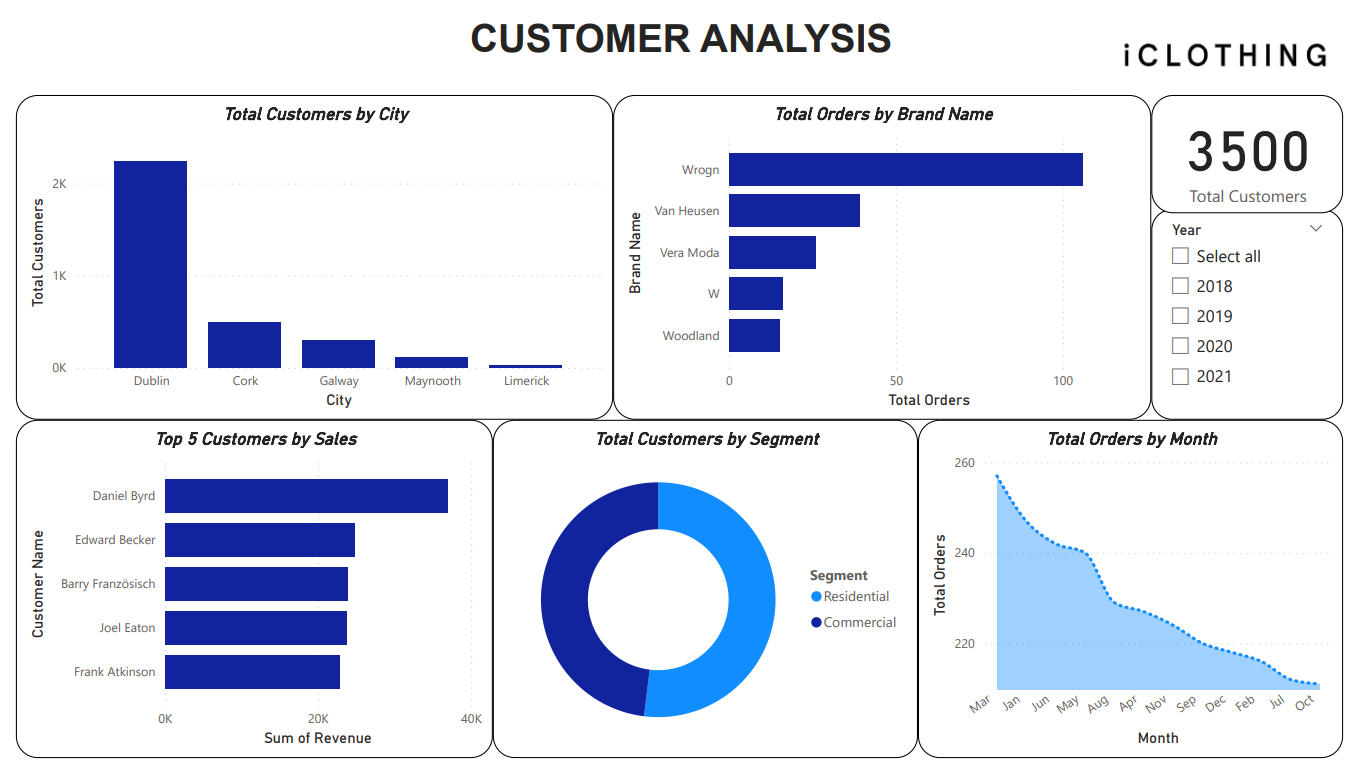

Layout of this report page (visuals, bound fields, positions):
{"tool":"powerbi","page":{"name":"Customer Analysis","canvas":[1280,720],"ordinal":4},"visuals":[{"type":"stackedAreaChart","fields":{"Category":["iclothing calender.Month"],"Y":["iclothing customers.Customer ID"]},"box":[870,393.8,410.3,326.6],"z":0},{"type":"clusteredBarChart","title":"Top 5 Customers by Sales","fields":{"Category":["iclothing customers.Customer Name"],"Y":["iclothing sales.Revenue"]},"box":[0,393.8,459.7,326.6],"z":1000},{"type":"clusteredBarChart","fields":{"Category":["iclothing products.Brand Name"],"Y":["iclothing sales.Customer ID"]},"box":[576.2,81.2,518.8,312.5],"z":2000},{"type":"donutChart","fields":{"Y":["iclothing sales.Customer ID"],"Category":["iclothing customers.Segment"]},"box":[459.7,393.8,410.3,326.6],"z":3000},{"type":"textbox","box":[9.6,1.4,1015.4,79.6],"z":4000},{"type":"image","box":[1042.9,0,237.4,81],"z":5000},{"type":"slicer","fields":{"Values":["iclothing calender.Year"]},"box":[1095,190.7,185.2,203.1],"z":6000},{"type":"lineStackedColumnComboChart","fields":{"Category":["iclothing customers.City"],"Y":["iclothing sales.Customer ID"]},"box":[0,81.2,576.2,312.5],"z":7000},{"type":"card","fields":{"Values":["iclothing sales.Customer ID"]},"box":[1095,81,185.2,113.9],"z":8000}]}

Visuals, with their boxes in screenshot pixels (x1, y1, x2, y2), scaled from the page's 1280x720 canvas onto the 1361x767 screenshot:
stackedAreaChart - iclothing calender.Month x iclothing customers.Customer ID: 925:420:1360:766
"Top 5 Customers by Sales" clusteredBarChart: 0:420:489:766
clusteredBarChart - iclothing products.Brand Name x iclothing sales.Customer ID: 613:87:1164:419
donutChart - iclothing sales.Customer ID x iclothing customers.Segment: 489:420:925:766
textbox: 10:1:1090:86
image: 1109:0:1360:86
slicer - iclothing calender.Year: 1164:203:1360:420
lineStackedColumnComboChart - iclothing customers.City x iclothing sales.Customer ID: 0:87:613:419
card - iclothing sales.Customer ID: 1164:86:1360:208
